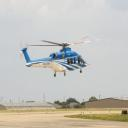helicopter: (20, 40, 99, 79)
